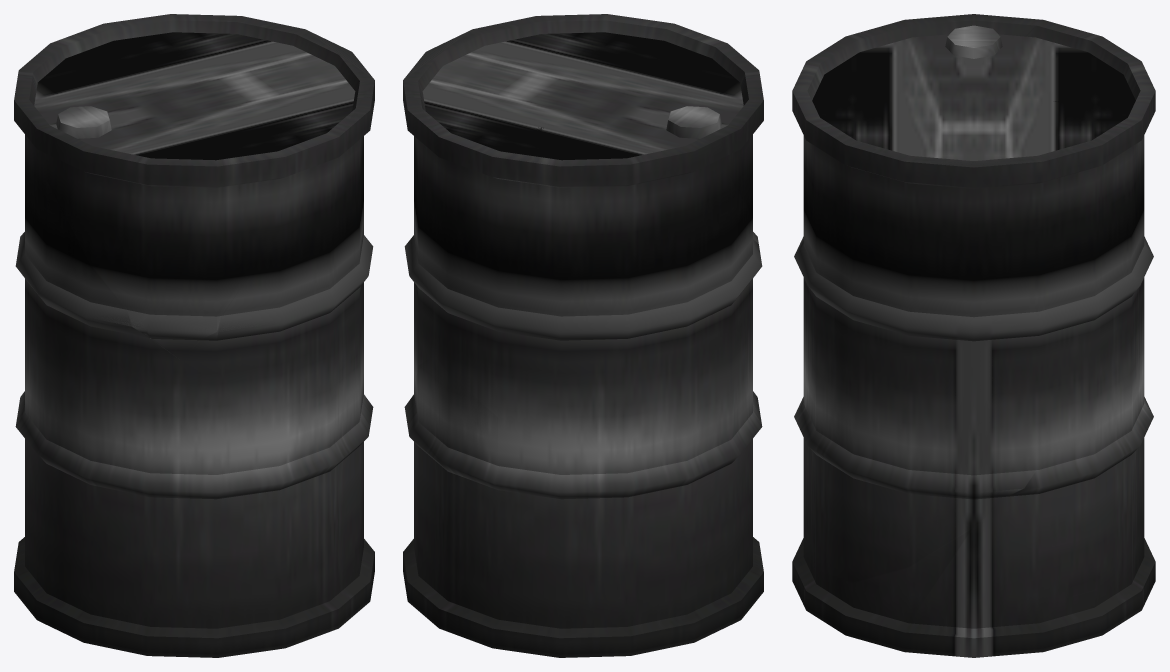
File: barrel_fragmented.fbx
The picture shows the model from 3 angles, left to right: view 1: azimuth 30°, elevation 25°; view 2: azimuth 150°, elevation 25°; view 3: azimuth 270°, elevation 25°; orthographic projection.
Parts seen in each view (by area): view 1: Barrel, Barrel_cell.001, Barrel_cell.003, Barrel_cell, Barrel_cell.002, Barrel_cell.004, Barrel_cell.005; view 2: Barrel, Barrel_cell.004, Barrel_cell.003, Barrel_cell.002, Barrel_cell; view 3: Barrel, Barrel_cell.001, Barrel_cell.004, Barrel_cell.002, Barrel_cell.003, Barrel_cell.
Part boxes in pixels (x1,y1,x2,y2): Barrel: [14, 17, 373, 657]; Barrel_cell.001: [181, 159, 373, 594]; Barrel_cell.003: [20, 24, 188, 560]; Barrel_cell: [37, 129, 284, 358]; Barrel_cell.002: [147, 14, 374, 230]; Barrel_cell.004: [19, 493, 374, 657]; Barrel_cell.005: [59, 120, 111, 138]; Barrel: [403, 20, 763, 657]; Barrel_cell.004: [403, 354, 758, 647]; Barrel_cell.003: [459, 135, 762, 515]; Barrel_cell.002: [403, 14, 673, 144]; Barrel_cell: [731, 101, 763, 243]; Barrel: [792, 14, 1155, 604]; Barrel_cell.001: [794, 170, 1069, 581]; Barrel_cell.004: [792, 355, 1155, 657]; Barrel_cell.002: [792, 91, 1146, 240]; Barrel_cell.003: [1027, 25, 1140, 106]; Barrel_cell: [974, 20, 1034, 36].
Size of the model in its own units: 83.01 by 124 by 83.01.
